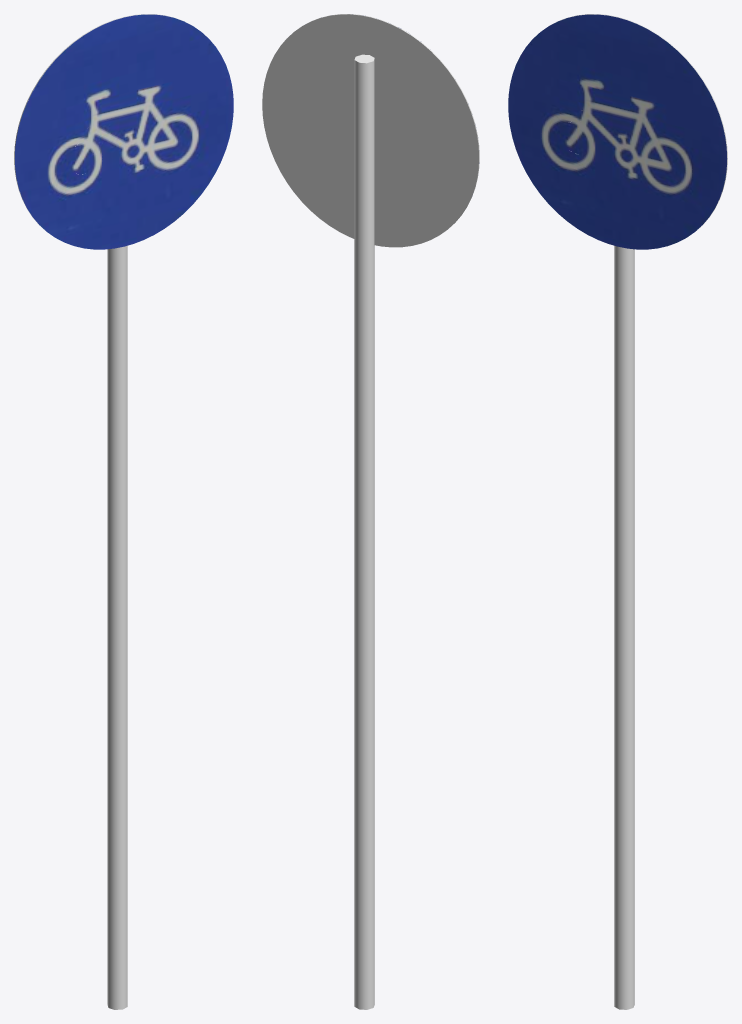
3 renders of one model, left to right at view 1: azimuth 30°, elevation 25°; view 2: azimuth 150°, elevation 25°; view 3: azimuth 330°, elevation 25°, orthographic.
Parts seen in each view (by area): view 1: P38; view 2: P38; view 3: P38.
Boxes of the visible parts, bbox=[...] form: P38: bbox=[14, 14, 233, 1009]; P38: bbox=[262, 14, 479, 1009]; P38: bbox=[508, 14, 727, 1009].
Size of the model in its own units: 3.93 by 17.03 by 0.374.
2 materials, 1 textured.
